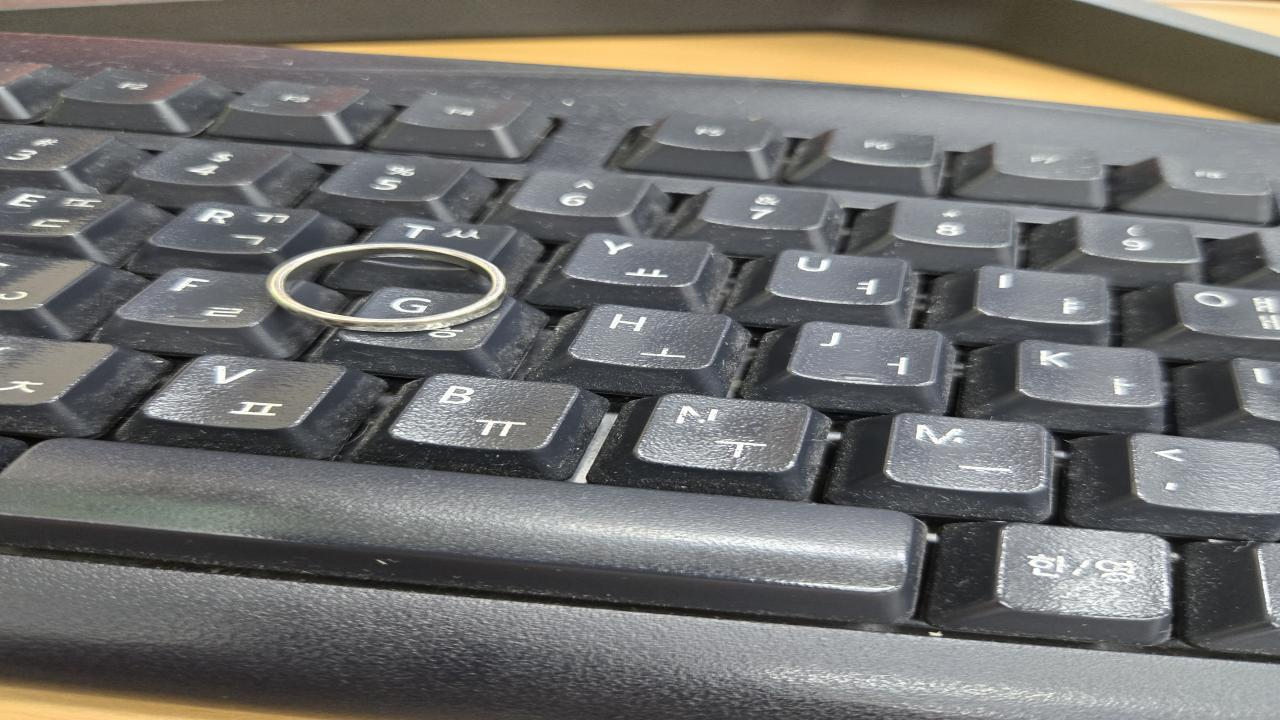ring: (264, 242, 510, 334)
